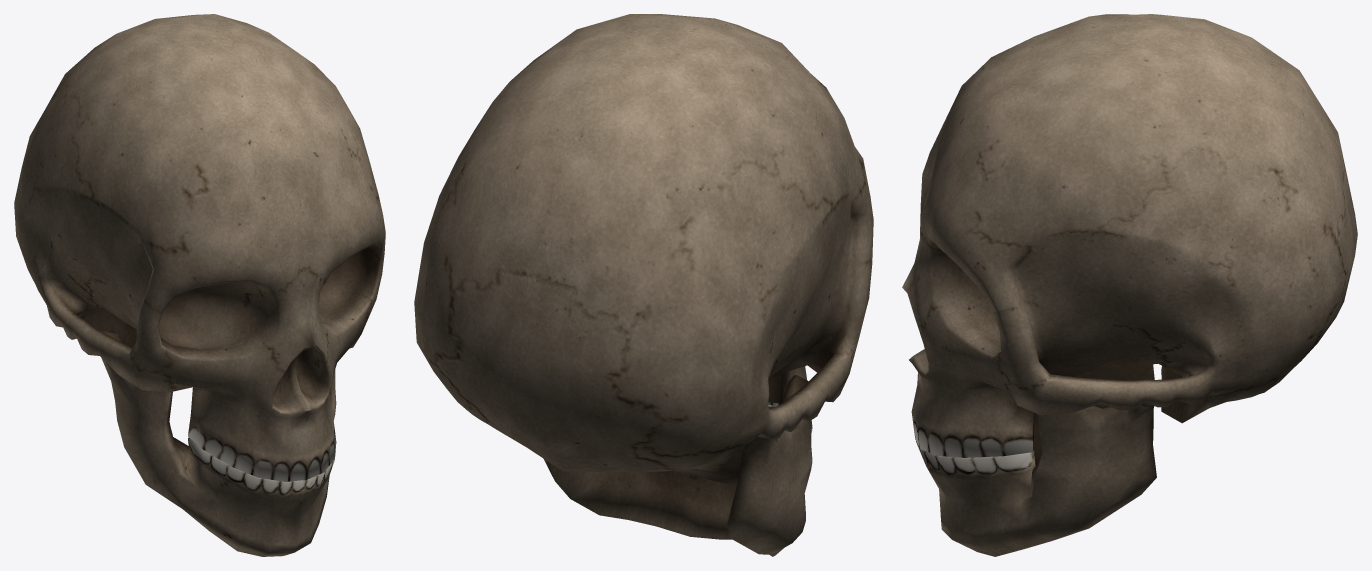
3 views of the same model, side by side, from view 1: azimuth 30°, elevation 25°; view 2: azimuth 150°, elevation 25°; view 3: azimuth 270°, elevation 25° (orthographic). The views are drawn at different scales.
Visible parts, largest first — view 1: skull_export; view 2: skull_export; view 3: skull_export.
Boxes of the visible parts, x1,y1,x2,y2 form: skull_export: (14,14,385,556); skull_export: (414,14,873,556); skull_export: (902,14,1357,556).
Size of the model in its own units: 1.41 by 2.32 by 1.87.
Materials: 1 (1 with a texture image).
